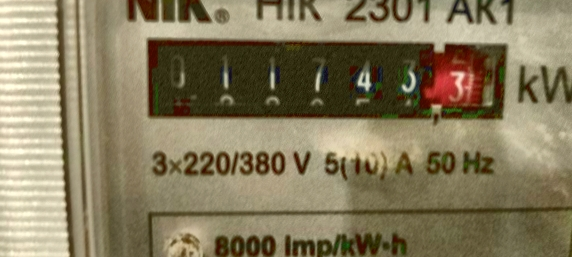0: (164, 54, 186, 93), (214, 52, 232, 93)
1: (261, 53, 277, 94)
3: (396, 56, 416, 99), (444, 69, 464, 107)
4: (351, 56, 371, 96)
7: (304, 53, 327, 97)
screen: (125, 25, 513, 134)
